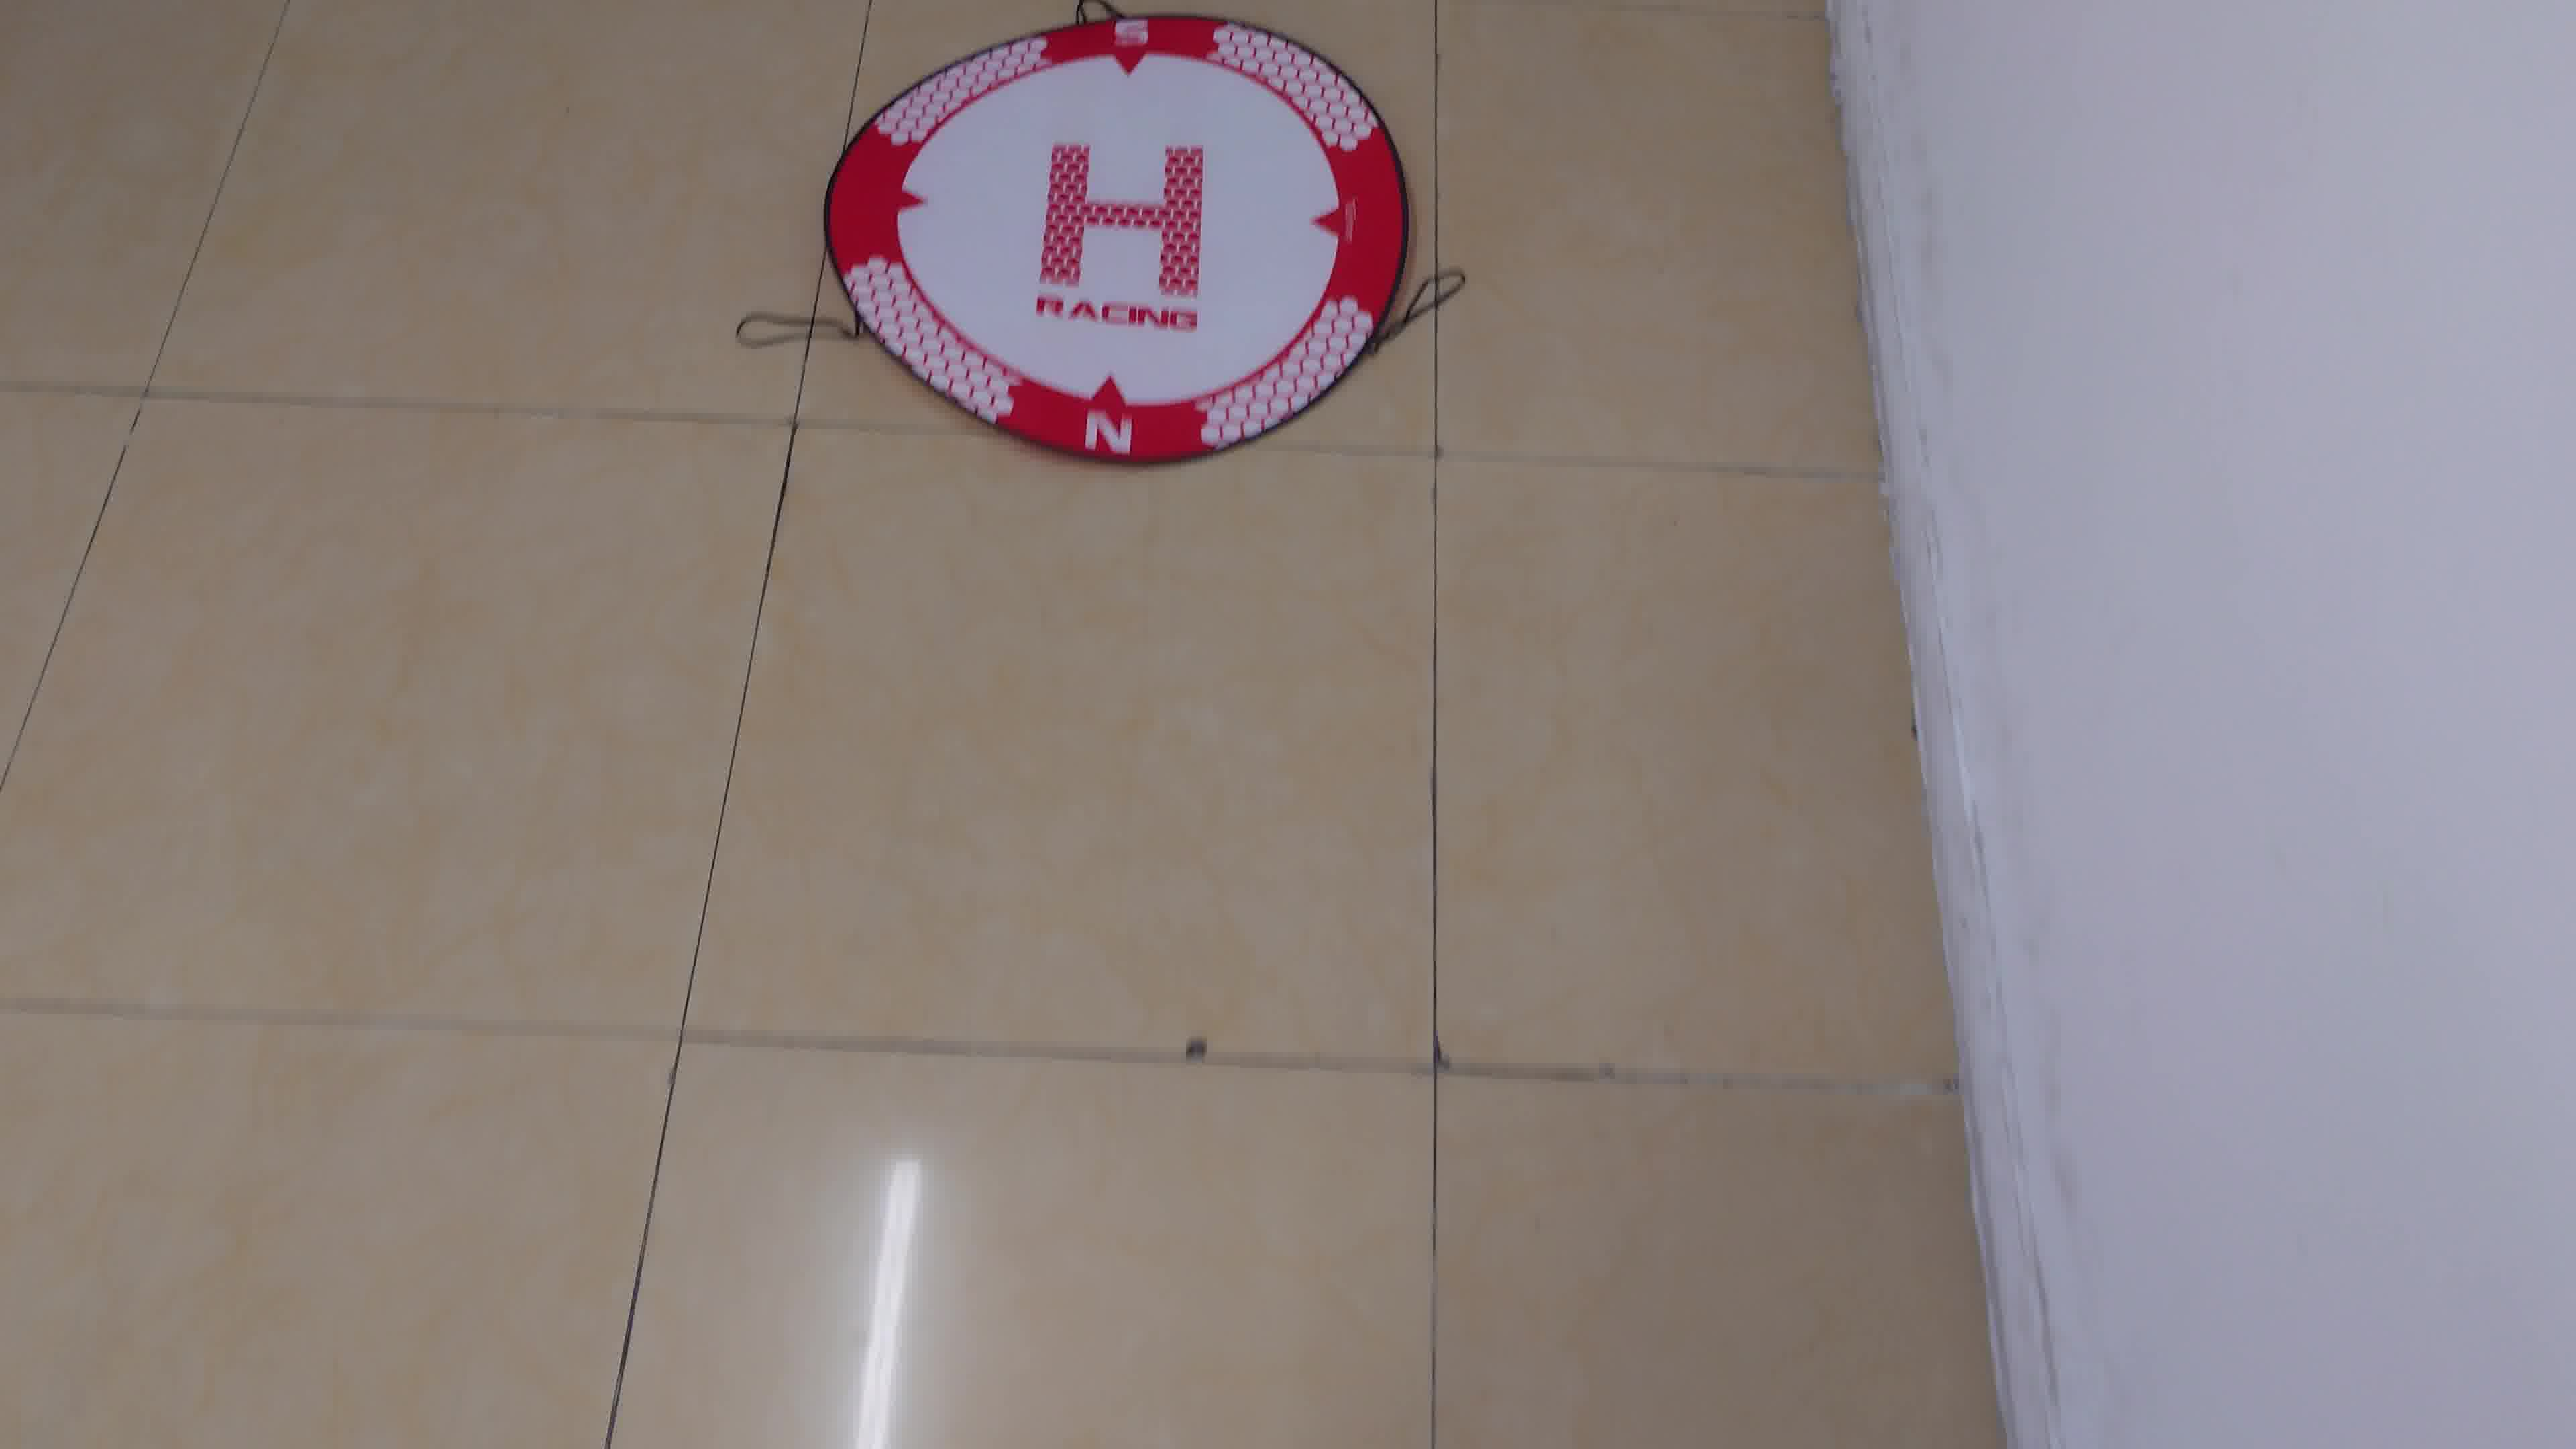H: (1040, 143, 1201, 299)
